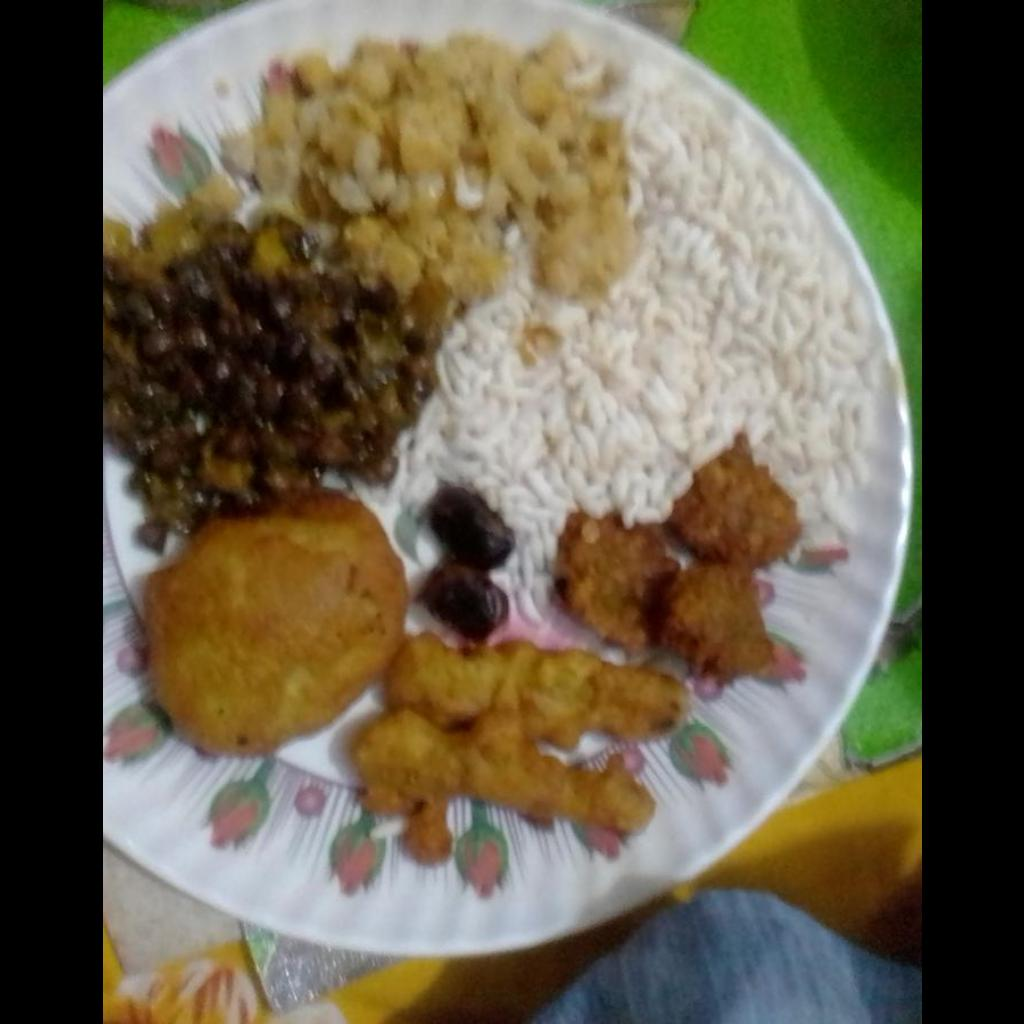beguni: (356, 638, 688, 858)
chola: (106, 241, 434, 539)
chop-alu: (143, 497, 404, 750)
daal: (224, 34, 637, 315)
dates: (415, 485, 517, 629)
peyaju: (561, 443, 795, 677)
puffed-rice: (388, 36, 900, 594)
